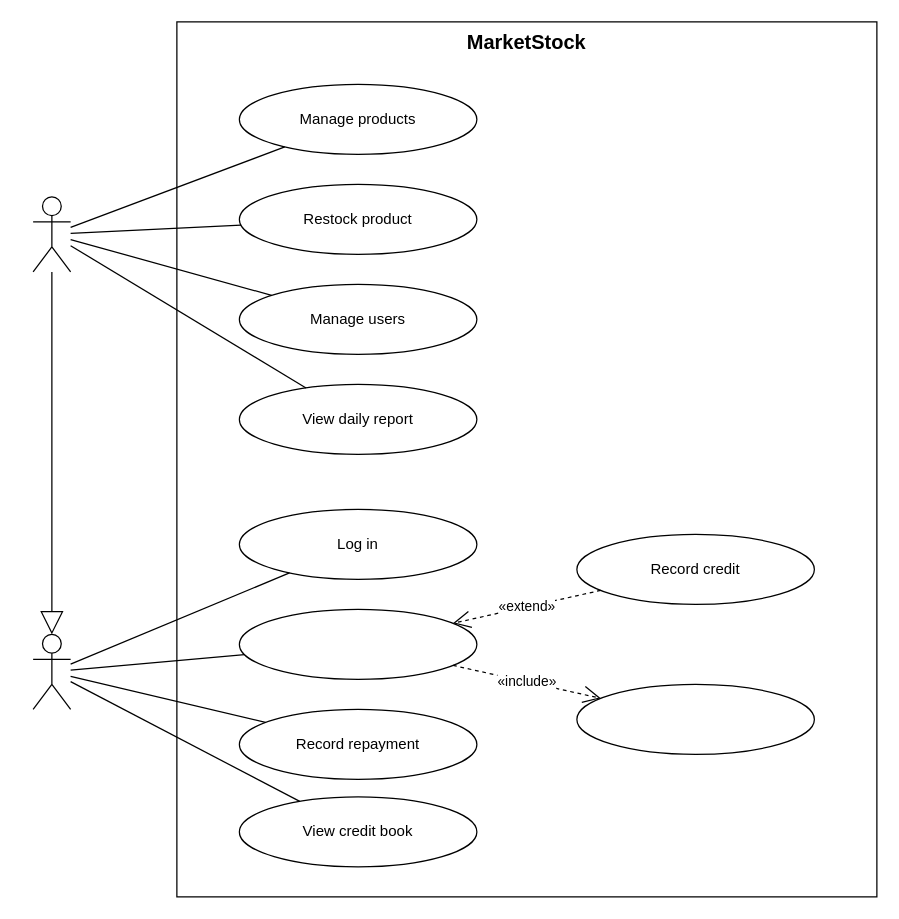
Some shapes in this 899 by 919 pixel diagram are drawn without their labels. The shapes that lost their labels are listed below. From the top down, each one's centre as x and y in pixels, then its label:
At (x=51, y=234): "Owner".
At (x=357, y=643): "Record sale".
At (x=51, y=671): "Assistant".
At (x=695, y=718): "Update stock".
